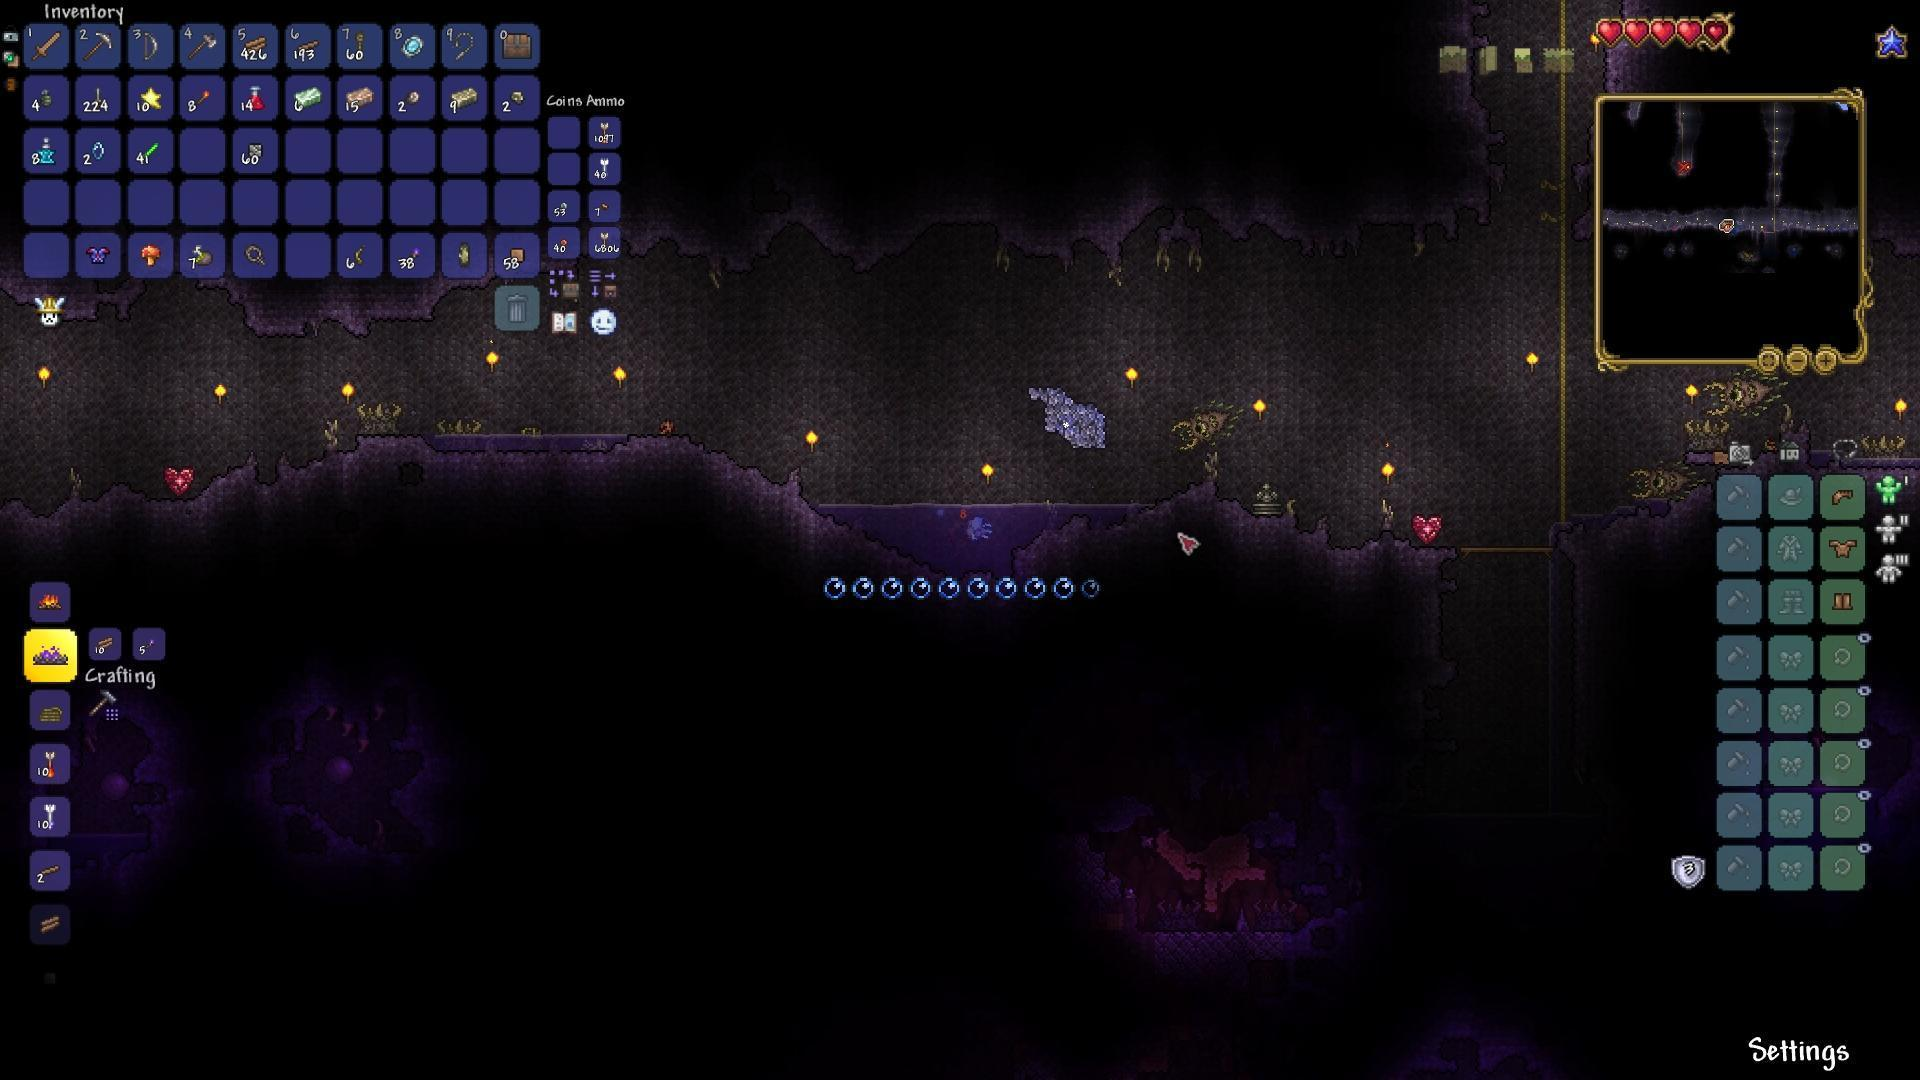crimera: (1692, 365, 1792, 419), (1164, 393, 1245, 452), (1622, 456, 1706, 505)
potion: (245, 80, 265, 112)
recallP: (37, 135, 58, 165)
